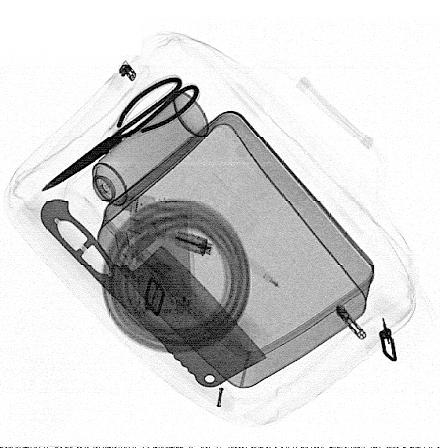Knife: (39, 200, 267, 386)
Powerbank: (131, 204, 197, 317)
Scissors: (41, 74, 201, 194)
Sprayer: (67, 90, 208, 226)
